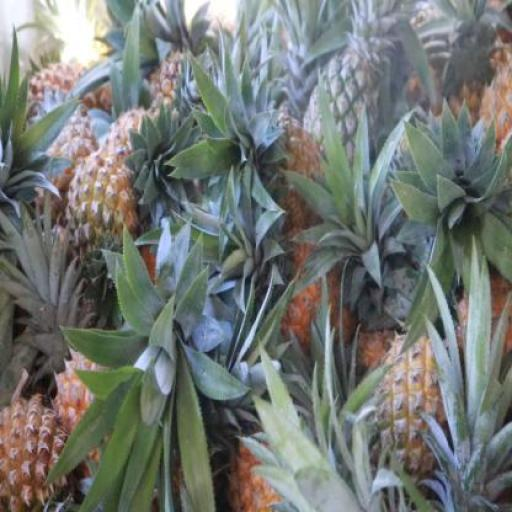------------------------------: (371, 330, 454, 482), (67, 152, 135, 284)
Pineapple - v8 v1: (0, 396, 69, 511)
